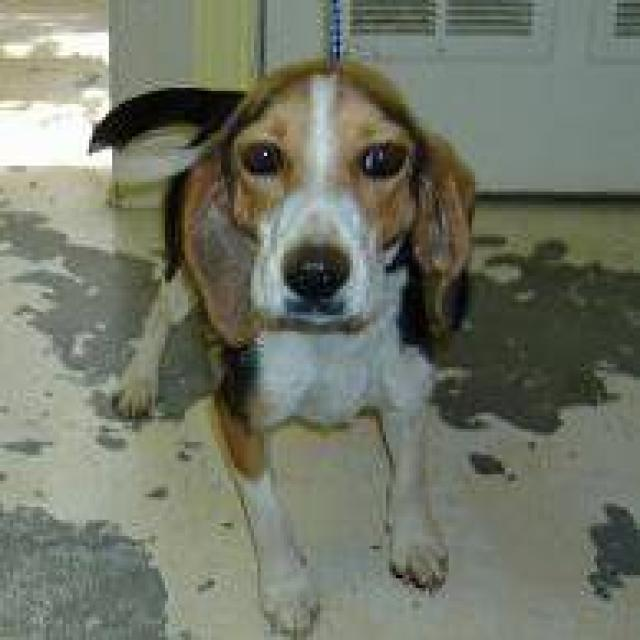dog: (86, 55, 478, 637)
